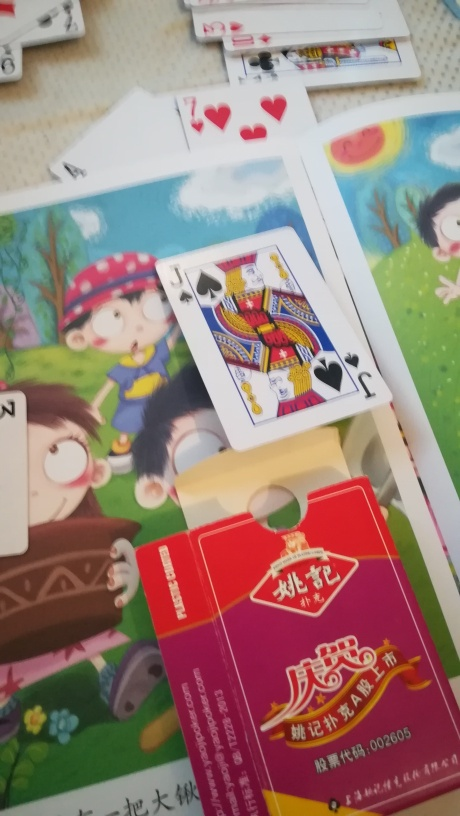ht j: (154, 222, 394, 449)
